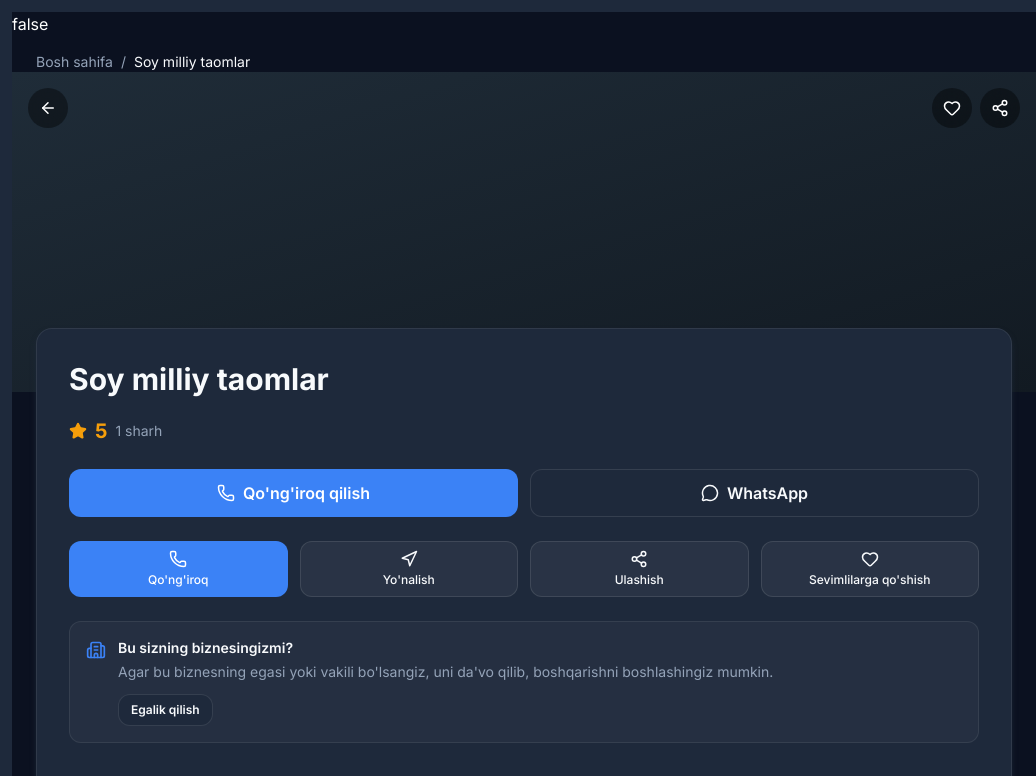
it: ClaimBusinessSection › opens the login modal instead of the claim form for an unauthenticated visitor
Click the button "Egalik qilish": (165, 710) x1=118 y1=694 x2=213 y2=726
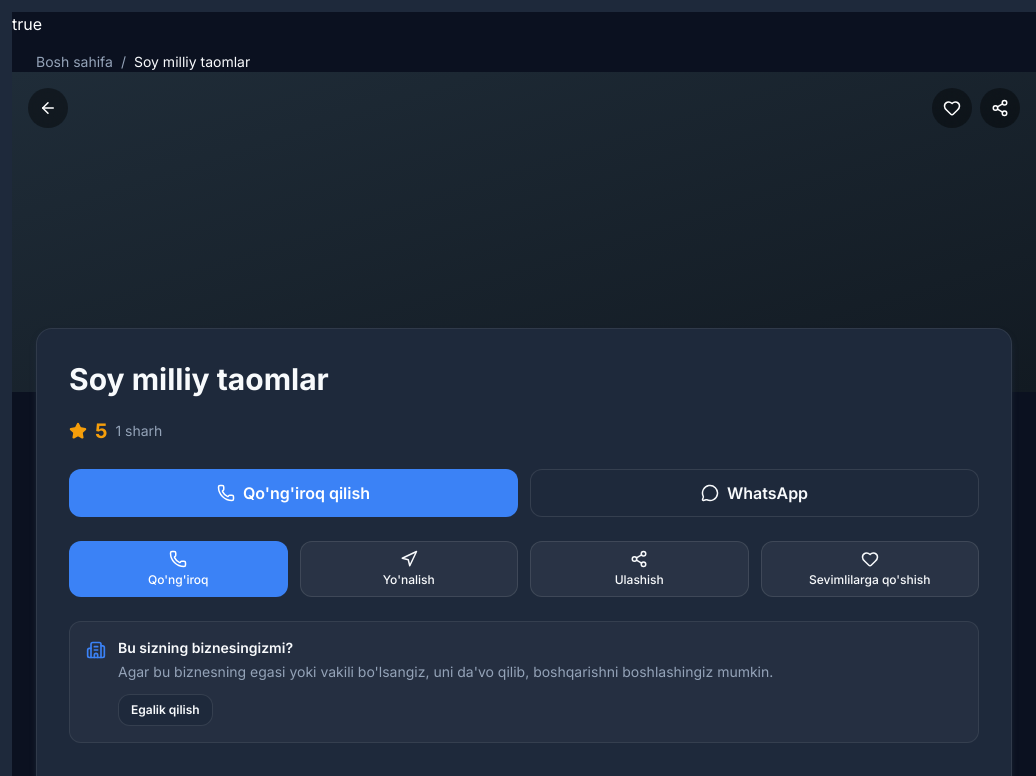
Check: the text with test id "auth-modal-open" reads "true", box x1=12 y1=14 x2=42 y2=34
